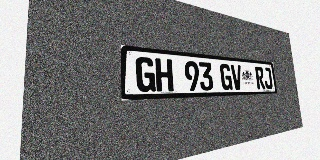3: (198, 62, 213, 91)
9: (184, 60, 200, 91)
G: (135, 56, 156, 92), (219, 64, 233, 90)
H: (155, 58, 174, 92)
J: (263, 67, 273, 89)
R: (255, 67, 265, 89)
V: (231, 64, 243, 90)
